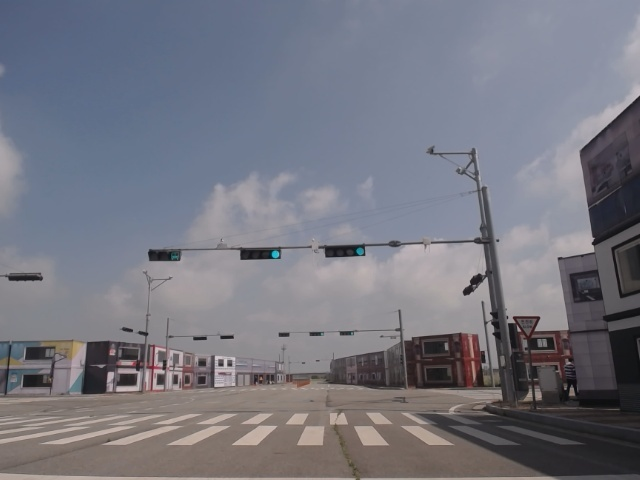straight_green_4: (240, 248, 281, 260), (325, 245, 365, 257)
